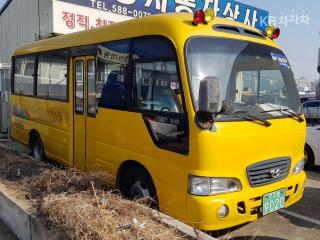0: (269, 201, 275, 211), (279, 197, 284, 208)
2: (274, 199, 280, 210)
7: (268, 193, 273, 200), (273, 192, 277, 199)
9: (264, 202, 269, 214)
보: (276, 191, 280, 198)
